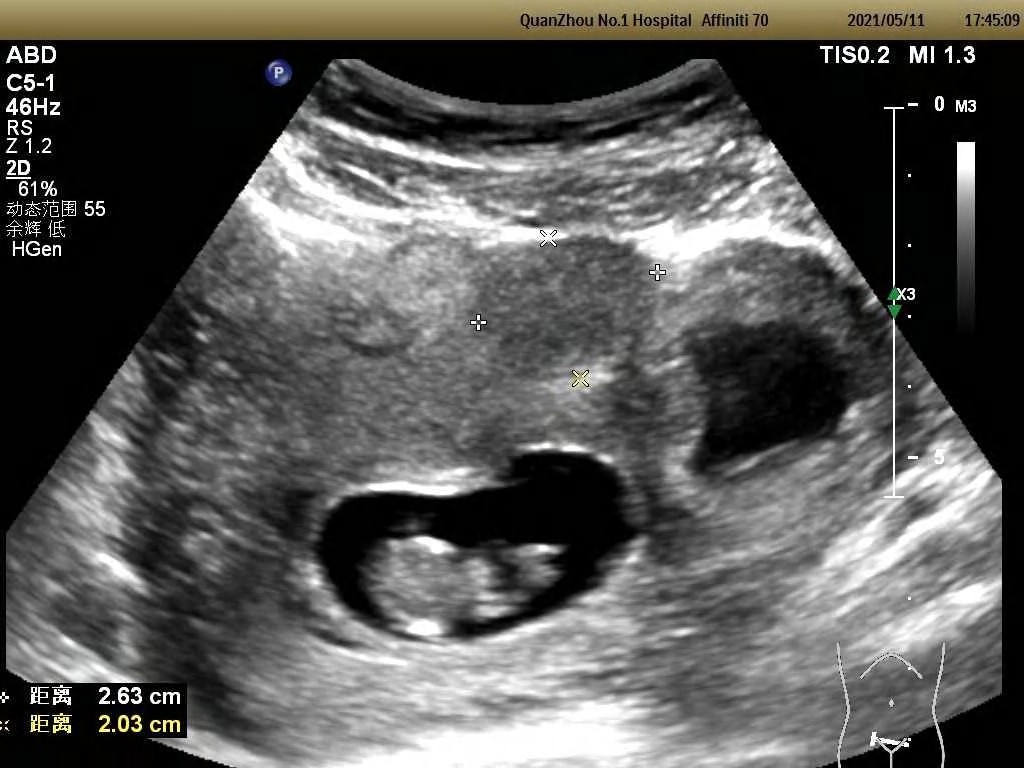肌瘤: (487, 240, 647, 372)
